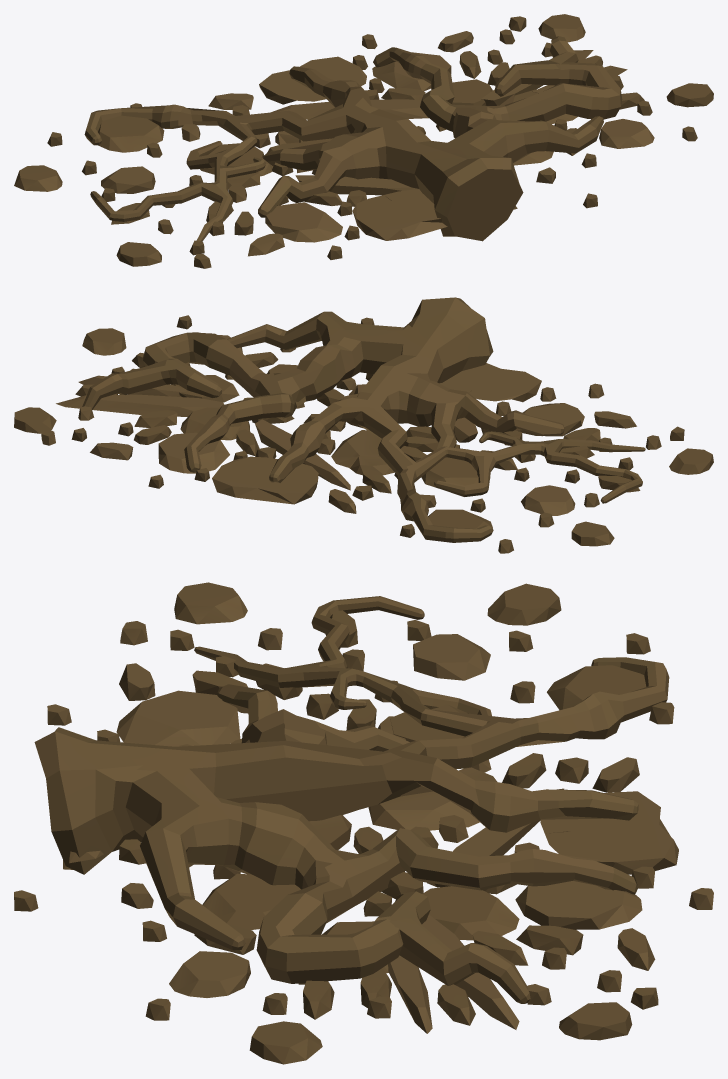
Rendered from EA_Swamp_Dirt_Root_04b.glb.
3 views of the same model, one above another, from view 1: azimuth 30°, elevation 25°; view 2: azimuth 150°, elevation 25°; view 3: azimuth 270°, elevation 25° (orthographic). The views are drawn at different scales.
Parts seen in each view (by area): view 1: EA_Swamp_Dirt_Root_04b; view 2: EA_Swamp_Dirt_Root_04b; view 3: EA_Swamp_Dirt_Root_04b.
Boxes of the visible parts, bbox=[...] form: EA_Swamp_Dirt_Root_04b: bbox=[14, 14, 713, 268]; EA_Swamp_Dirt_Root_04b: bbox=[14, 297, 713, 553]; EA_Swamp_Dirt_Root_04b: bbox=[14, 582, 713, 1064].
Bounding box in the file's own units: 9.29 × 1.25 × 5.84.
Materials: 1 (1 with a texture image).
